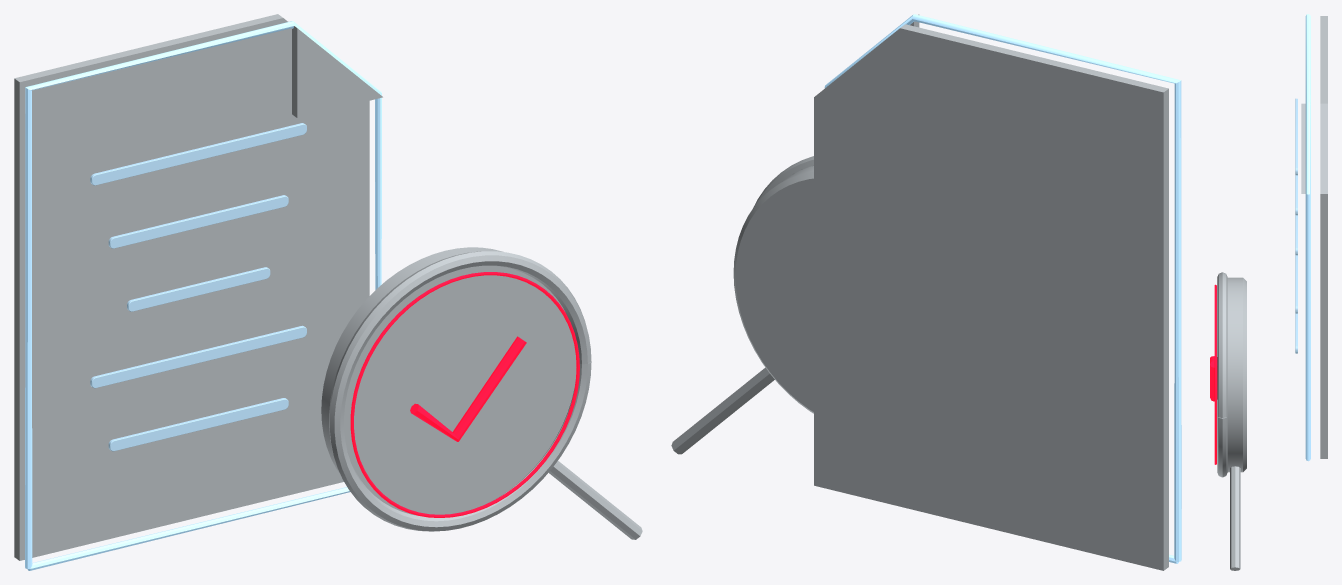
File: 39-audit.glb
3 views of the same model, side by side, from view 1: azimuth 30°, elevation 25°; view 2: azimuth 150°, elevation 25°; view 3: azimuth 270°, elevation 25° (orthographic). The views are drawn at different scales.
Visible parts, largest first — view 1: BC thin clear technical glass, BC etched pale glass, BC cool glass edge, BC ruby signal edge; view 2: BC thin clear technical glass, BC cool glass edge; view 3: BC thin clear technical glass, BC cool glass edge, BC etched pale glass, BC ruby signal edge.
Boxes of the visible parts, x1,y1,x2,y2 form: BC thin clear technical glass: [14, 14, 642, 560]; BC etched pale glass: [90, 123, 306, 451]; BC cool glass edge: [25, 21, 381, 570]; BC ruby signal edge: [350, 272, 579, 517]; BC thin clear technical glass: [671, 14, 1168, 570]; BC cool glass edge: [824, 14, 1181, 563]; BC thin clear technical glass: [1217, 16, 1327, 570]; BC cool glass edge: [1305, 14, 1310, 461]; BC etched pale glass: [1295, 98, 1297, 353]; BC ruby signal edge: [1210, 284, 1217, 464].
Bounding box in the file's own units: 2.09 × 1.95 × 0.556.
